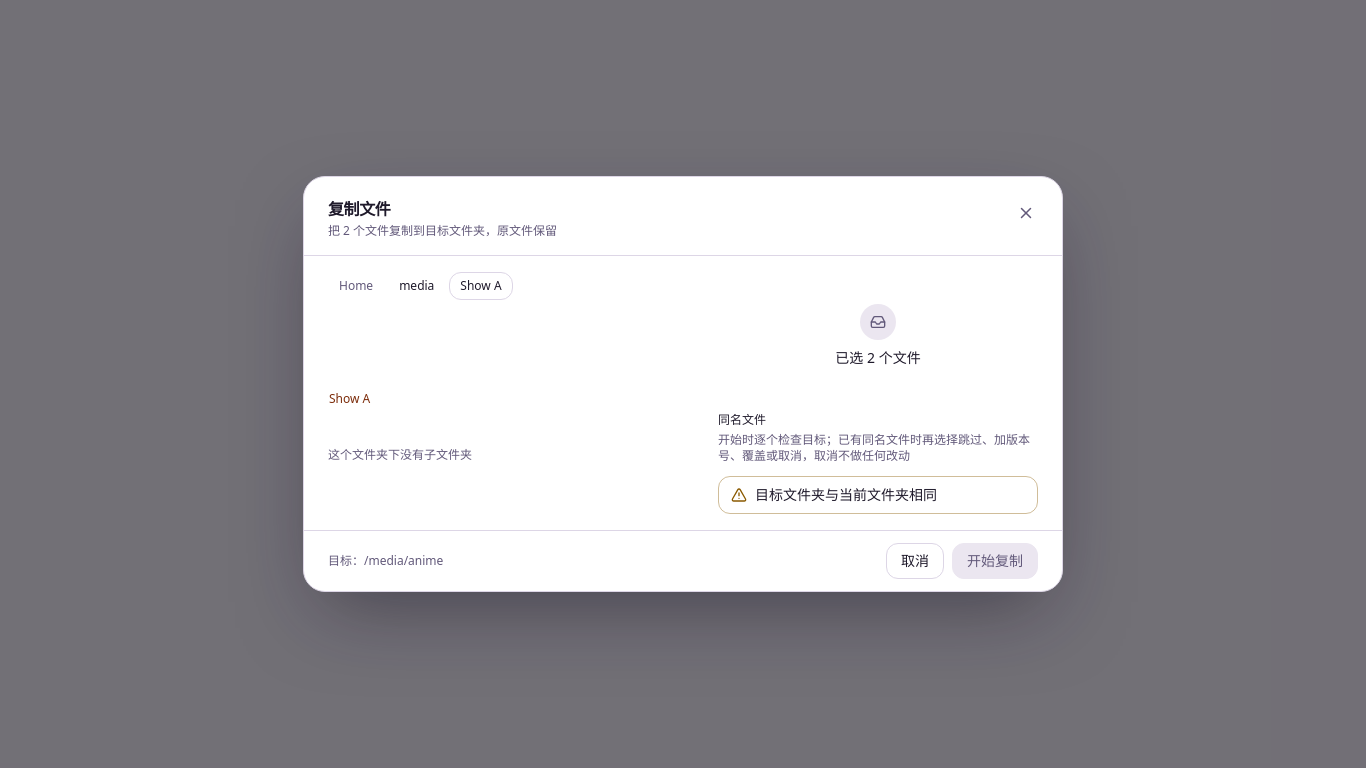
Scenario: TransferDialog › starts at the source's own library directory and jumps to another by its button
This screenshot has width=1366, height=768.
Expected: the button "开始复制" is shown, [952,543,1038,579]
Expected: the text "目标文件夹与当前文件夹相同" is shown, [755,485,937,504]
Click the button "media": coordinates (417, 286) [388,272,445,300]
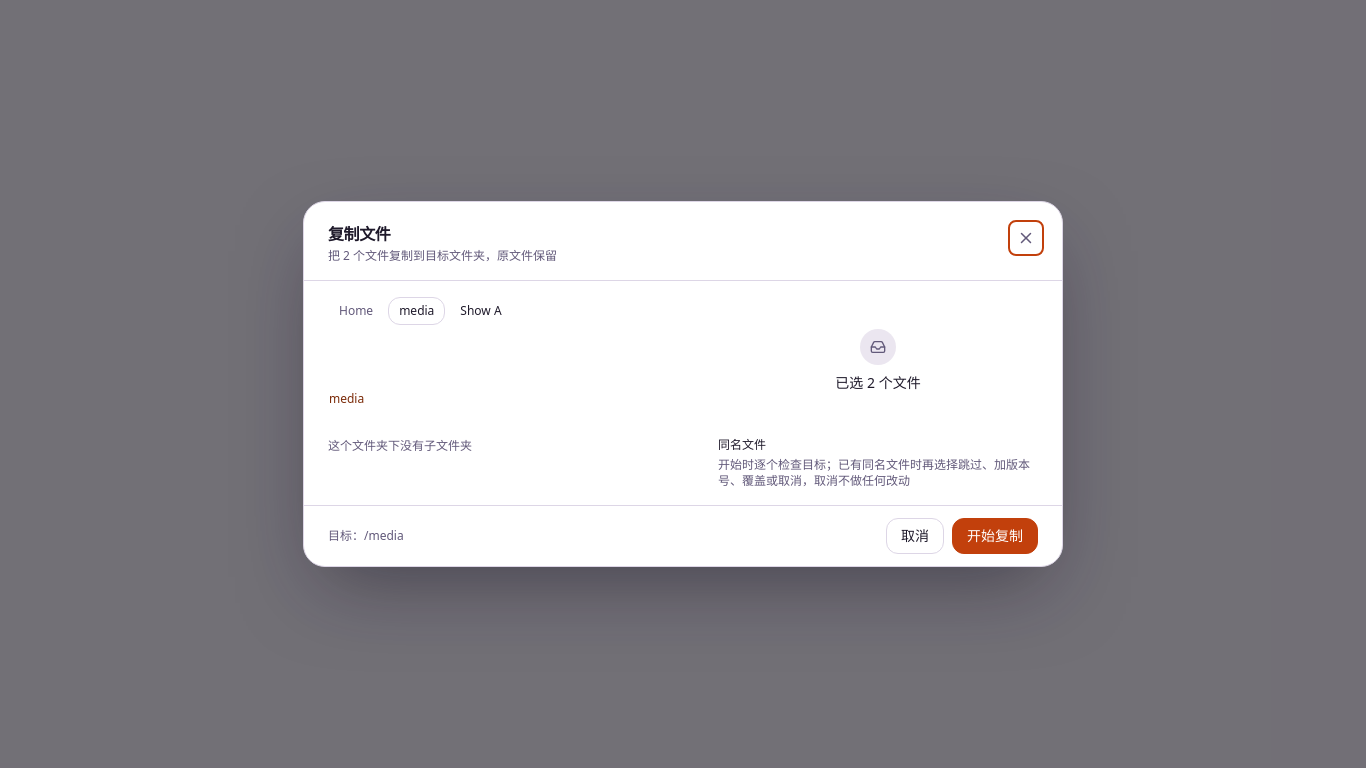
Result: the 2nd button "media" is shown at [328,385,365,413]
